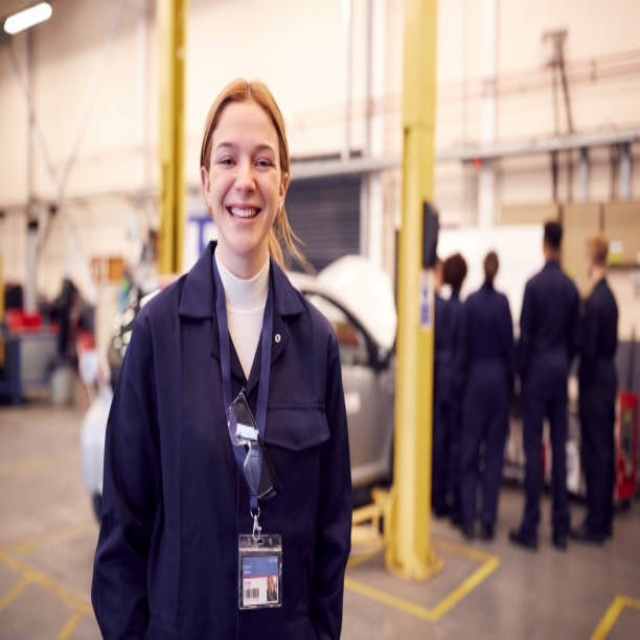Sin_gafas: (214, 134, 274, 184)
Sin_mascara: (224, 196, 270, 236)
